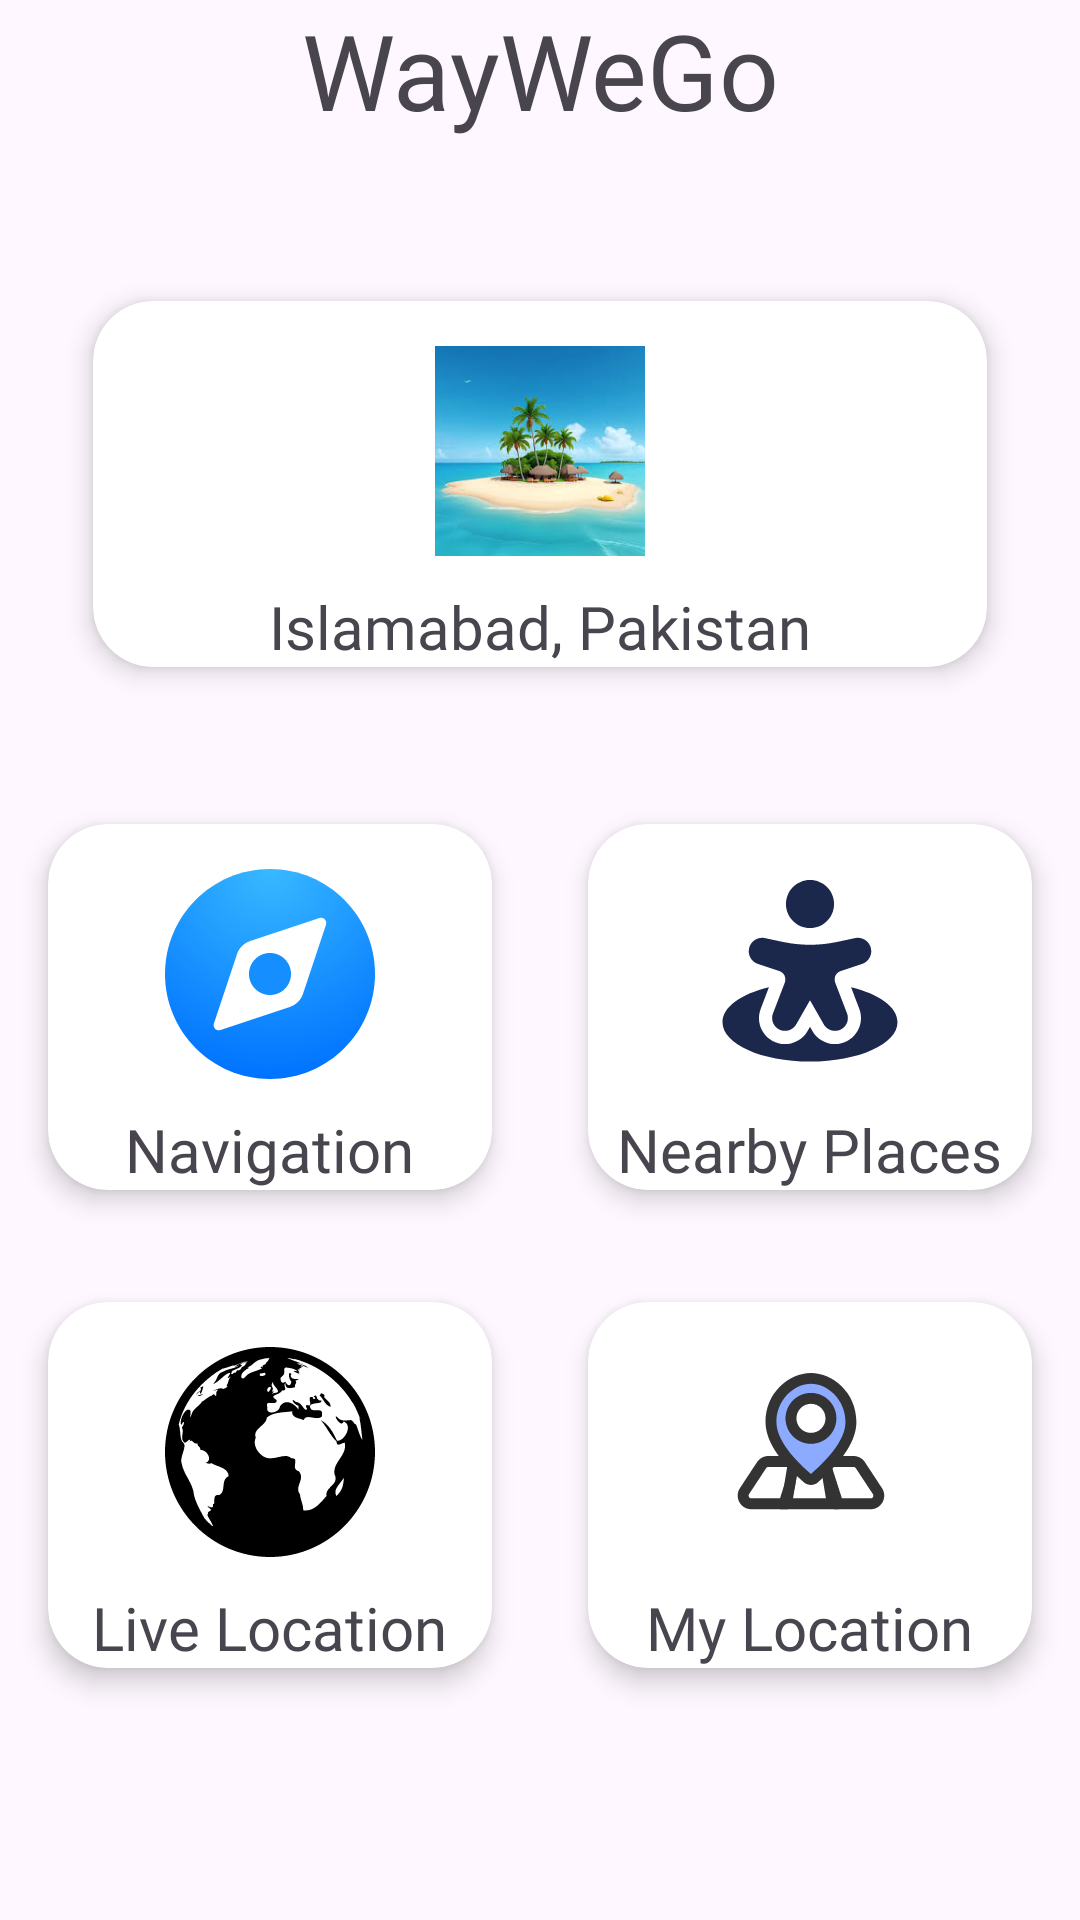

Where to tap for icons on this 1080w x 1920h app screen, as (x,y):
island: (540,451)
world: (270,1452)
